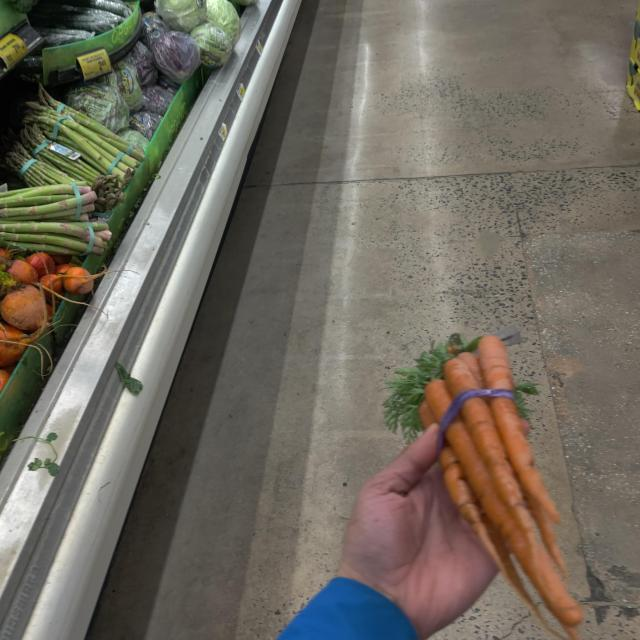Carrots: (376, 314, 602, 638)
